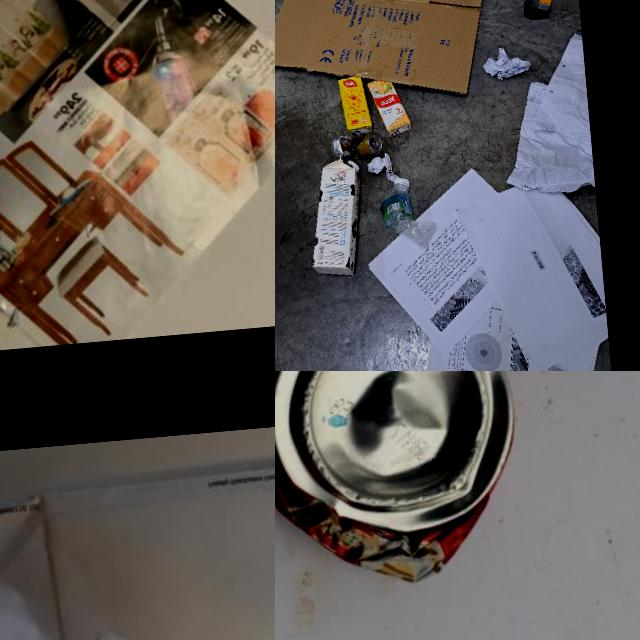aba de lata: (372, 140, 380, 148)
caixinha: (302, 152, 368, 279), (368, 76, 412, 138), (338, 76, 374, 136)
garrafa plástica: (380, 183, 438, 250)
lata: (275, 371, 527, 598), (330, 132, 383, 160)
papel: (0, 0, 275, 363), (0, 430, 275, 640), (360, 156, 613, 371), (498, 32, 596, 195), (481, 45, 533, 81), (366, 151, 398, 183)
papelão: (275, 0, 516, 110)
tampa plástica: (394, 177, 411, 190), (346, 158, 359, 172)
